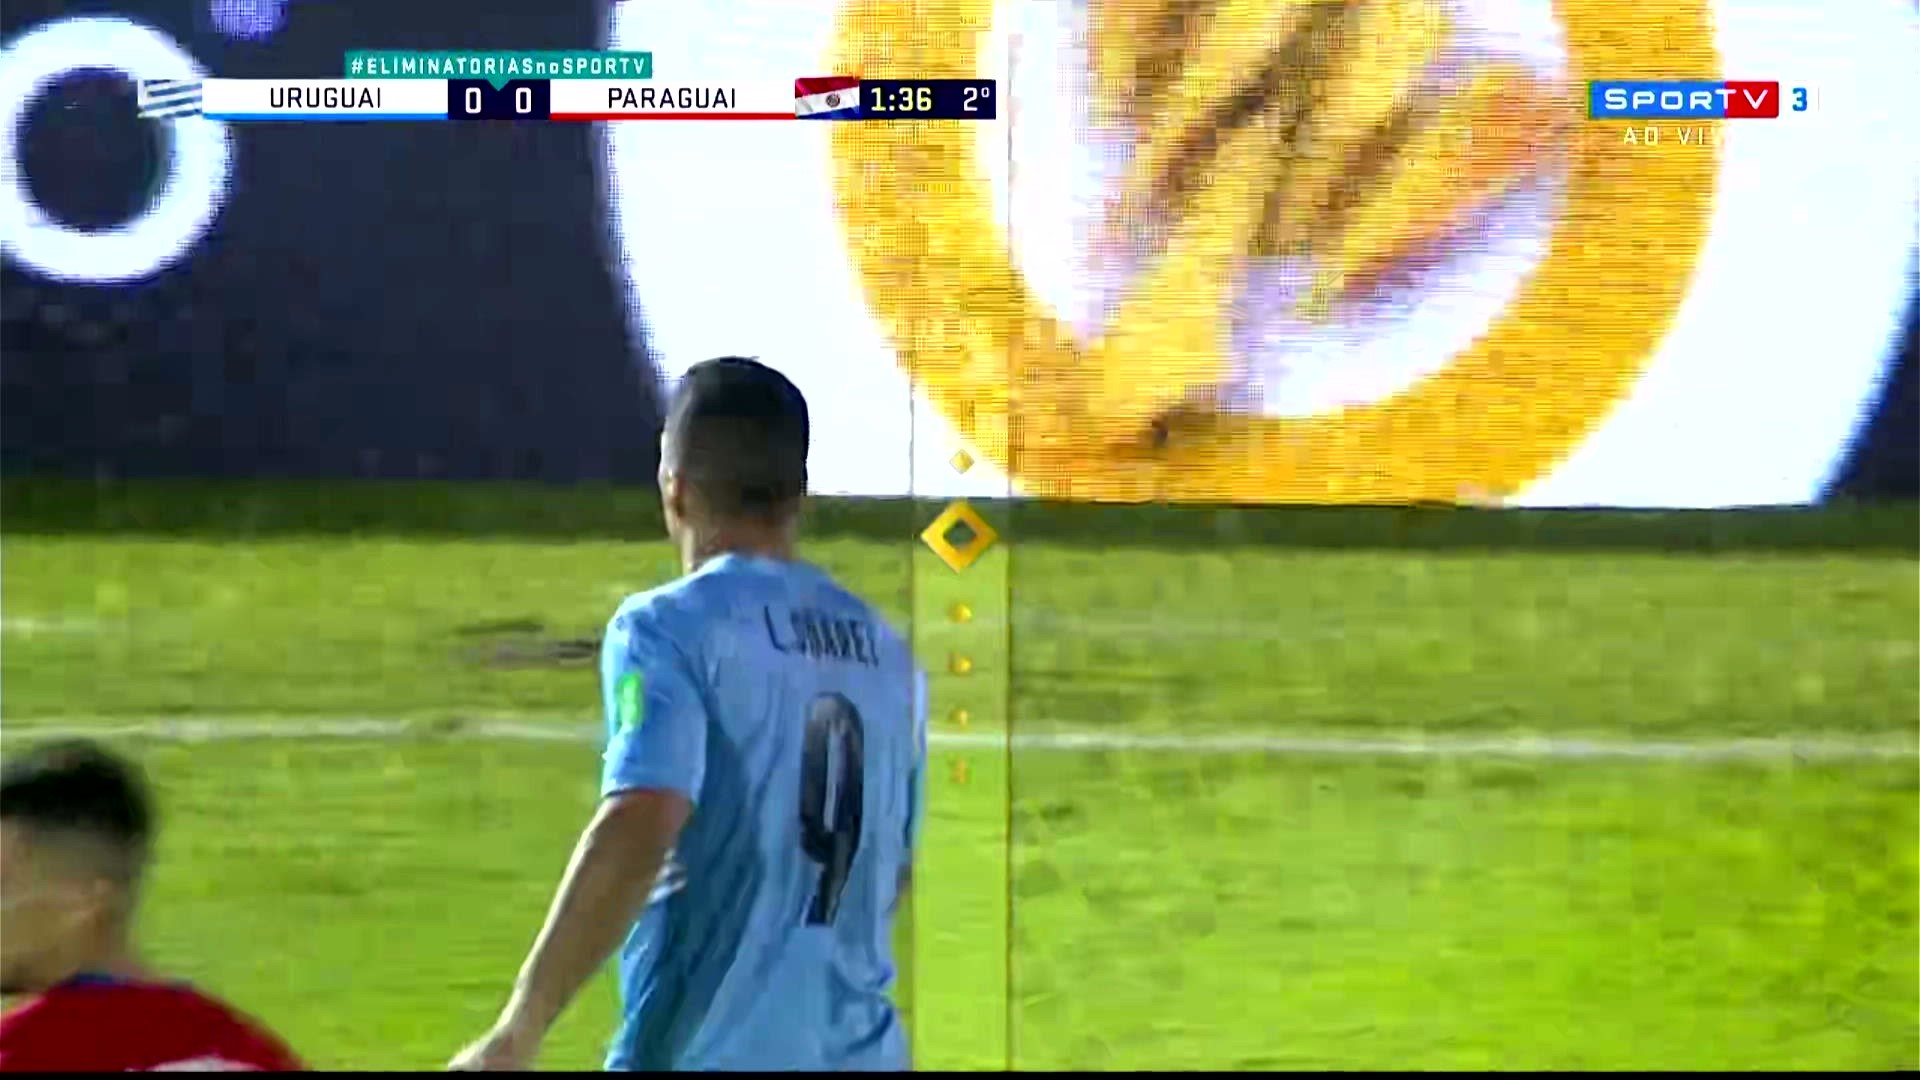SporTV3: (1589, 80, 1822, 120)
